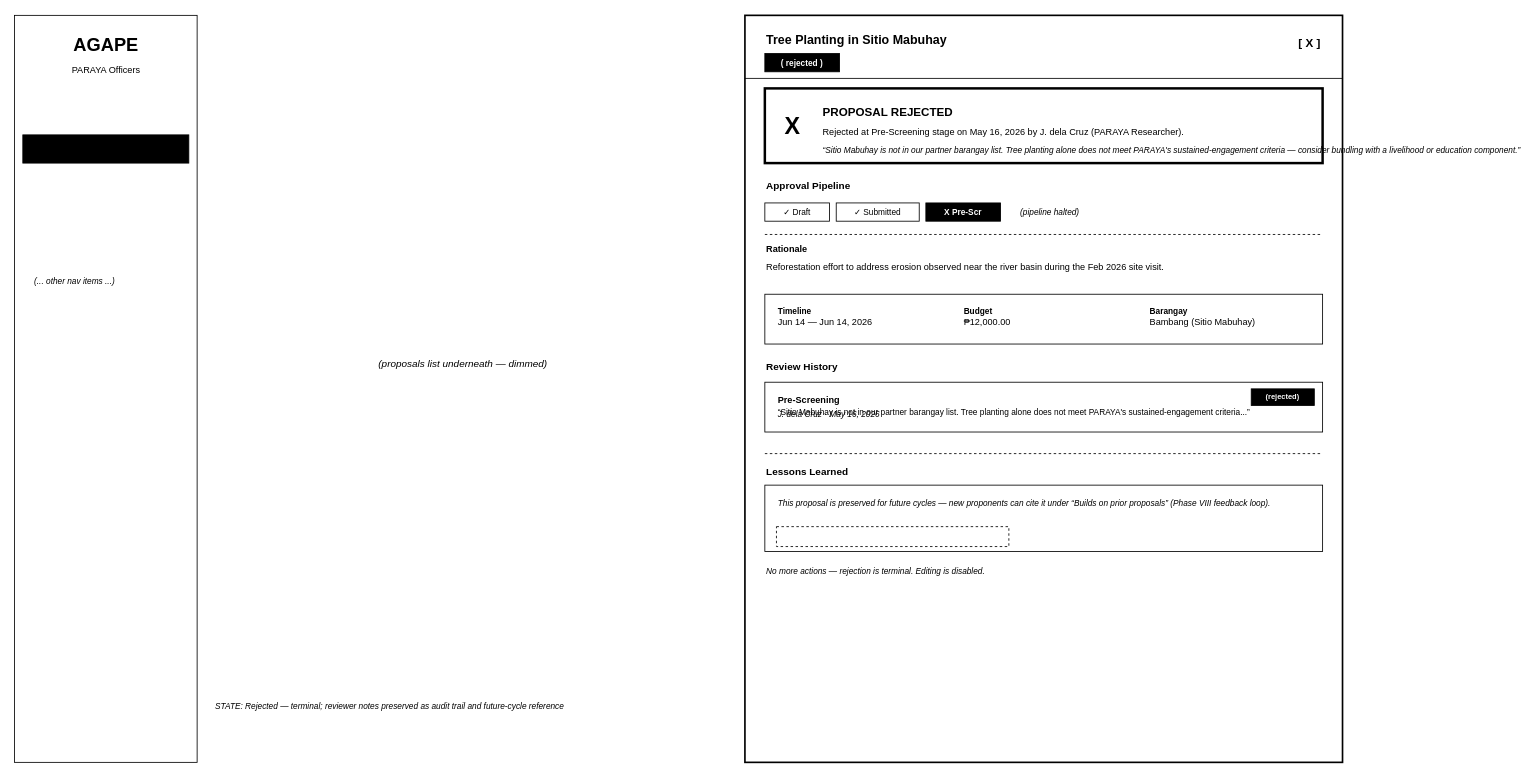
This 1536x777 diagram has some shape labels left out. The box of each missing label's shape, as (x1, y1, x2, y2) in pixels:
[ Clone & revise & resubmit as new proposal ]: (776, 526, 1009, 547)
[x] Proposals: (22, 134, 189, 163)
